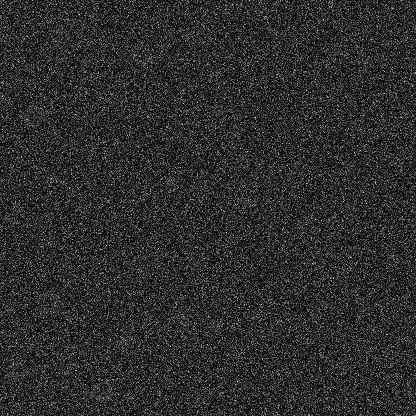Ring: (20, 103, 44, 127), (242, 154, 266, 178), (47, 37, 71, 61), (5, 358, 29, 382), (36, 289, 60, 313), (54, 351, 78, 375), (129, 42, 153, 66), (90, 378, 114, 402)
Spot: (78, 54, 94, 70), (177, 317, 193, 333), (115, 336, 131, 352), (65, 311, 81, 327), (355, 53, 371, 69), (268, 362, 284, 378), (43, 169, 59, 185), (162, 175, 178, 191), (78, 13, 94, 29), (50, 20, 66, 36), (158, 373, 174, 389), (33, 262, 49, 278), (133, 259, 149, 275), (330, 327, 346, 343), (191, 188, 207, 204), (207, 316, 223, 332), (239, 193, 255, 209)
